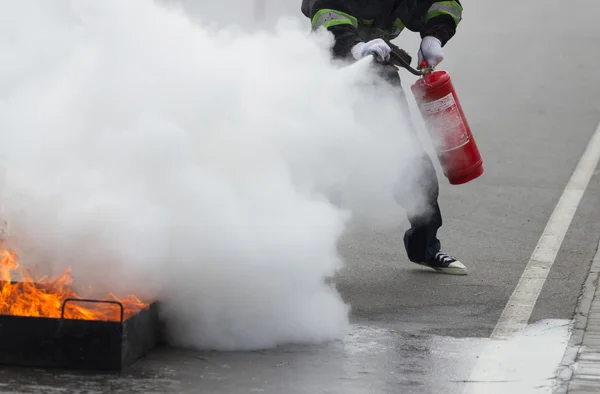fire_extinguisher: (410, 58, 485, 185)
